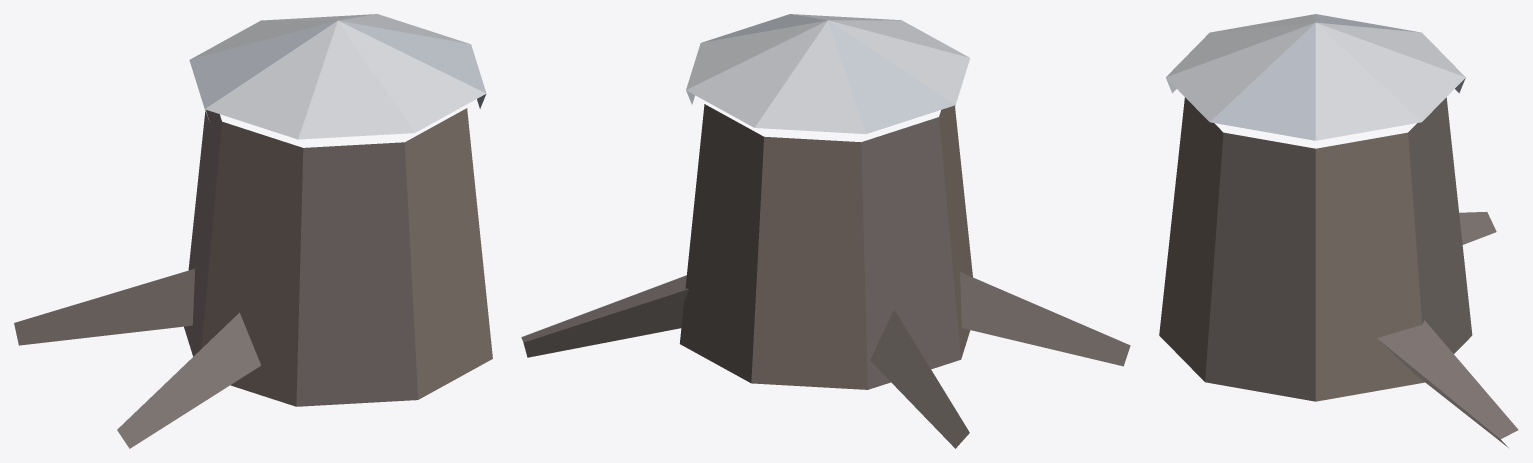
Rendered from kanto_1.glb.
The picture shows the model from 3 angles, left to right: view 1: azimuth 30°, elevation 25°; view 2: azimuth 150°, elevation 25°; view 3: azimuth 270°, elevation 25°; orthographic projection. The views are drawn at different scales.
Visible parts, largest first — view 1: kanto_1; view 2: kanto_1; view 3: kanto_1.
Boxes of the visible parts, x1=… form: kanto_1: x1=14, y1=14, x2=492, y2=448; kanto_1: x1=521, y1=14, x2=1130, y2=448; kanto_1: x1=1159, y1=14, x2=1518, y2=447.
Bounding box in the file's own units: 0.9389 × 0.6029 × 0.6062.
